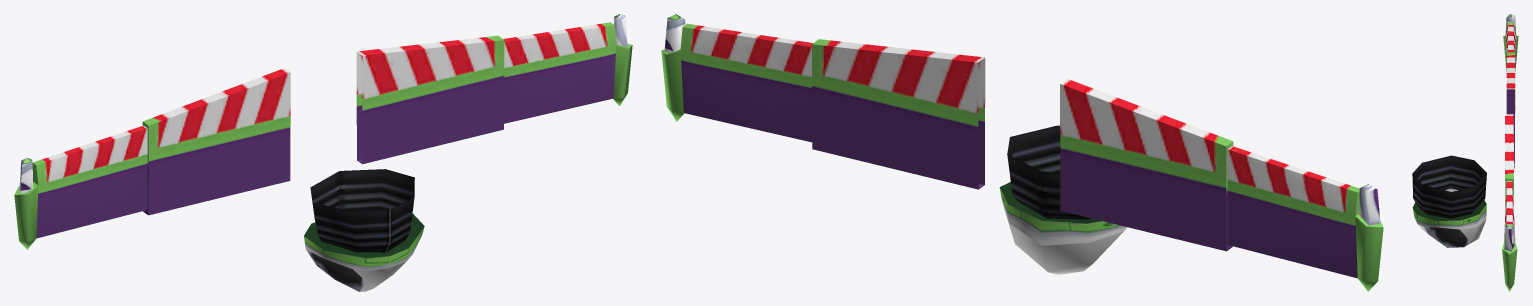
File: buzzCadera.obj
3 renders of one model, left to right at view 1: azimuth 30°, elevation 25°; view 2: azimuth 150°, elevation 25°; view 3: azimuth 270°, elevation 25°, orthographic. The views are drawn at different scales.
Visible parts, largest first — view 1: buzzlightyLeftWing1_buzzlighty.015, buzzlightyRightWing1_buzzlighty.008, buzzlightyHip_buzzlighty.011, buzzlightyRightWing2_buzzlighty.003, buzzlightyLeftWing2_buzzlighty.014; view 2: buzzlightyLeftWing1_buzzlighty.015, buzzlightyRightWing1_buzzlighty.008, buzzlightyRightWing2_buzzlighty.003, buzzlightyLeftWing2_buzzlighty.014, buzzlightyHip_buzzlighty.011; view 3: buzzlightyHip_buzzlighty.011, buzzlightyLeftWing2_buzzlighty.014, buzzlightyRightWing1_buzzlighty.008, buzzlightyLeftWing1_buzzlighty.015, buzzlightyRightWing2_buzzlighty.003.
Part boxes in pixels (x1=…): buzzlightyLeftWing1_buzzlighty.015: x1=356, y1=35, x2=504, y2=164; buzzlightyRightWing1_buzzlighty.008: x1=142, y1=68, x2=290, y2=215; buzzlightyHip_buzzlighty.011: x1=304, y1=169, x2=424, y2=291; buzzlightyRightWing2_buzzlighty.003: x1=14, y1=125, x2=147, y2=249; buzzlightyLeftWing2_buzzlighty.014: x1=503, y1=14, x2=632, y2=123; buzzlightyLeftWing1_buzzlighty.015: x1=812, y1=39, x2=985, y2=189; buzzlightyRightWing1_buzzlighty.008: x1=1060, y1=78, x2=1233, y2=251; buzzlightyRightWing2_buzzlighty.003: x1=1227, y1=146, x2=1383, y2=291; buzzlightyLeftWing2_buzzlighty.014: x1=661, y1=14, x2=812, y2=142; buzzlightyHip_buzzlighty.011: x1=999, y1=125, x2=1127, y2=274; buzzlightyHip_buzzlighty.011: x1=1412, y1=155, x2=1486, y2=247; buzzlightyLeftWing2_buzzlighty.014: x1=1502, y1=181, x2=1517, y2=291; buzzlightyRightWing1_buzzlighty.008: x1=1506, y1=52, x2=1515, y2=168; buzzlightyLeftWing1_buzzlighty.015: x1=1505, y1=114, x2=1513, y2=207; buzzlightyRightWing2_buzzlighty.003: x1=1503, y1=14, x2=1518, y2=113.
Bounding box in the file's own units: 1.15 × 0.3513 × 0.2339.
Materials: 5 (5 with a texture image).
